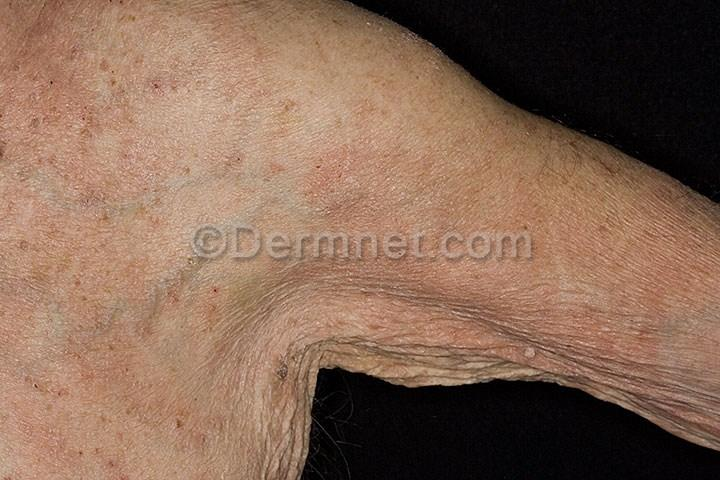Eczema: (0, 374, 110, 480), (1, 21, 95, 144), (631, 213, 720, 332), (146, 377, 230, 480), (448, 126, 532, 214), (572, 159, 658, 240), (66, 251, 142, 342), (54, 149, 131, 238), (301, 130, 375, 218), (0, 196, 62, 301), (108, 35, 190, 114), (590, 296, 665, 382), (197, 38, 269, 125), (83, 356, 156, 441), (8, 299, 85, 377), (178, 265, 250, 341), (535, 292, 615, 359), (221, 141, 288, 221), (374, 164, 435, 242), (414, 211, 484, 277), (151, 117, 206, 199), (258, 66, 320, 137), (485, 259, 547, 322), (509, 176, 560, 250), (351, 65, 402, 122)
